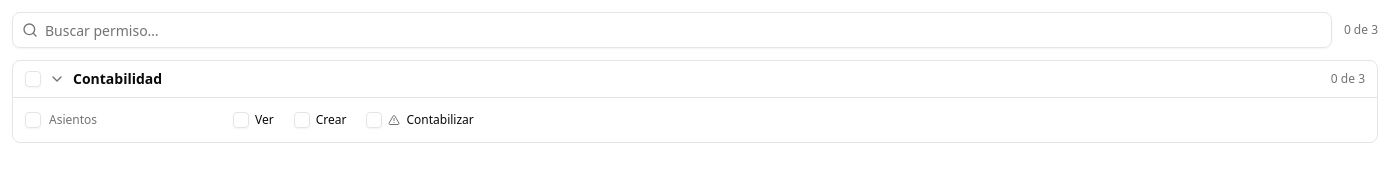
PermissionsPicker — buscador › avisa cuando no hay coincidencias, en vez de mostrar la lista vacía
Type "zzz" into the search field labelled "Buscar permiso". click: (672, 30)
box: [12,12,1332,48]
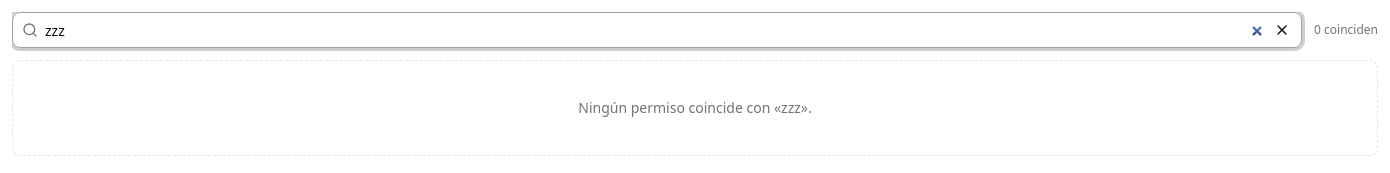
Result: the text "Ningún permiso coincide con «zzz»." is shown at [578,98,812,118]
